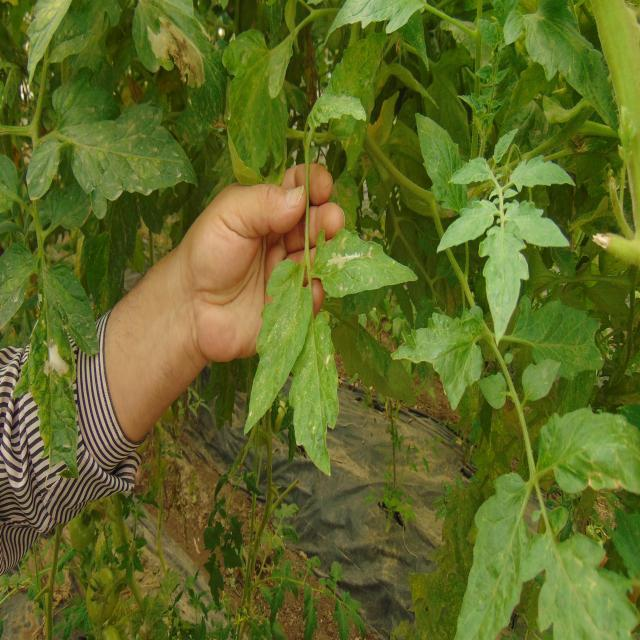Healthy: (237, 257, 322, 442), (455, 468, 541, 640), (524, 535, 638, 640), (537, 408, 640, 493), (474, 221, 541, 341), (498, 194, 577, 262), (426, 194, 504, 259)
Tuta absoluta: (136, 12, 218, 93), (43, 339, 73, 377), (326, 251, 364, 269)
